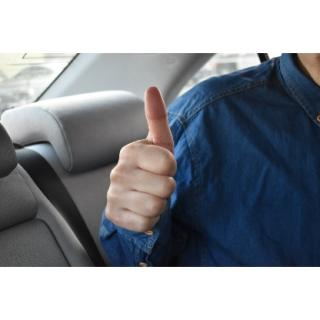ALIF: (104, 84, 180, 238)
